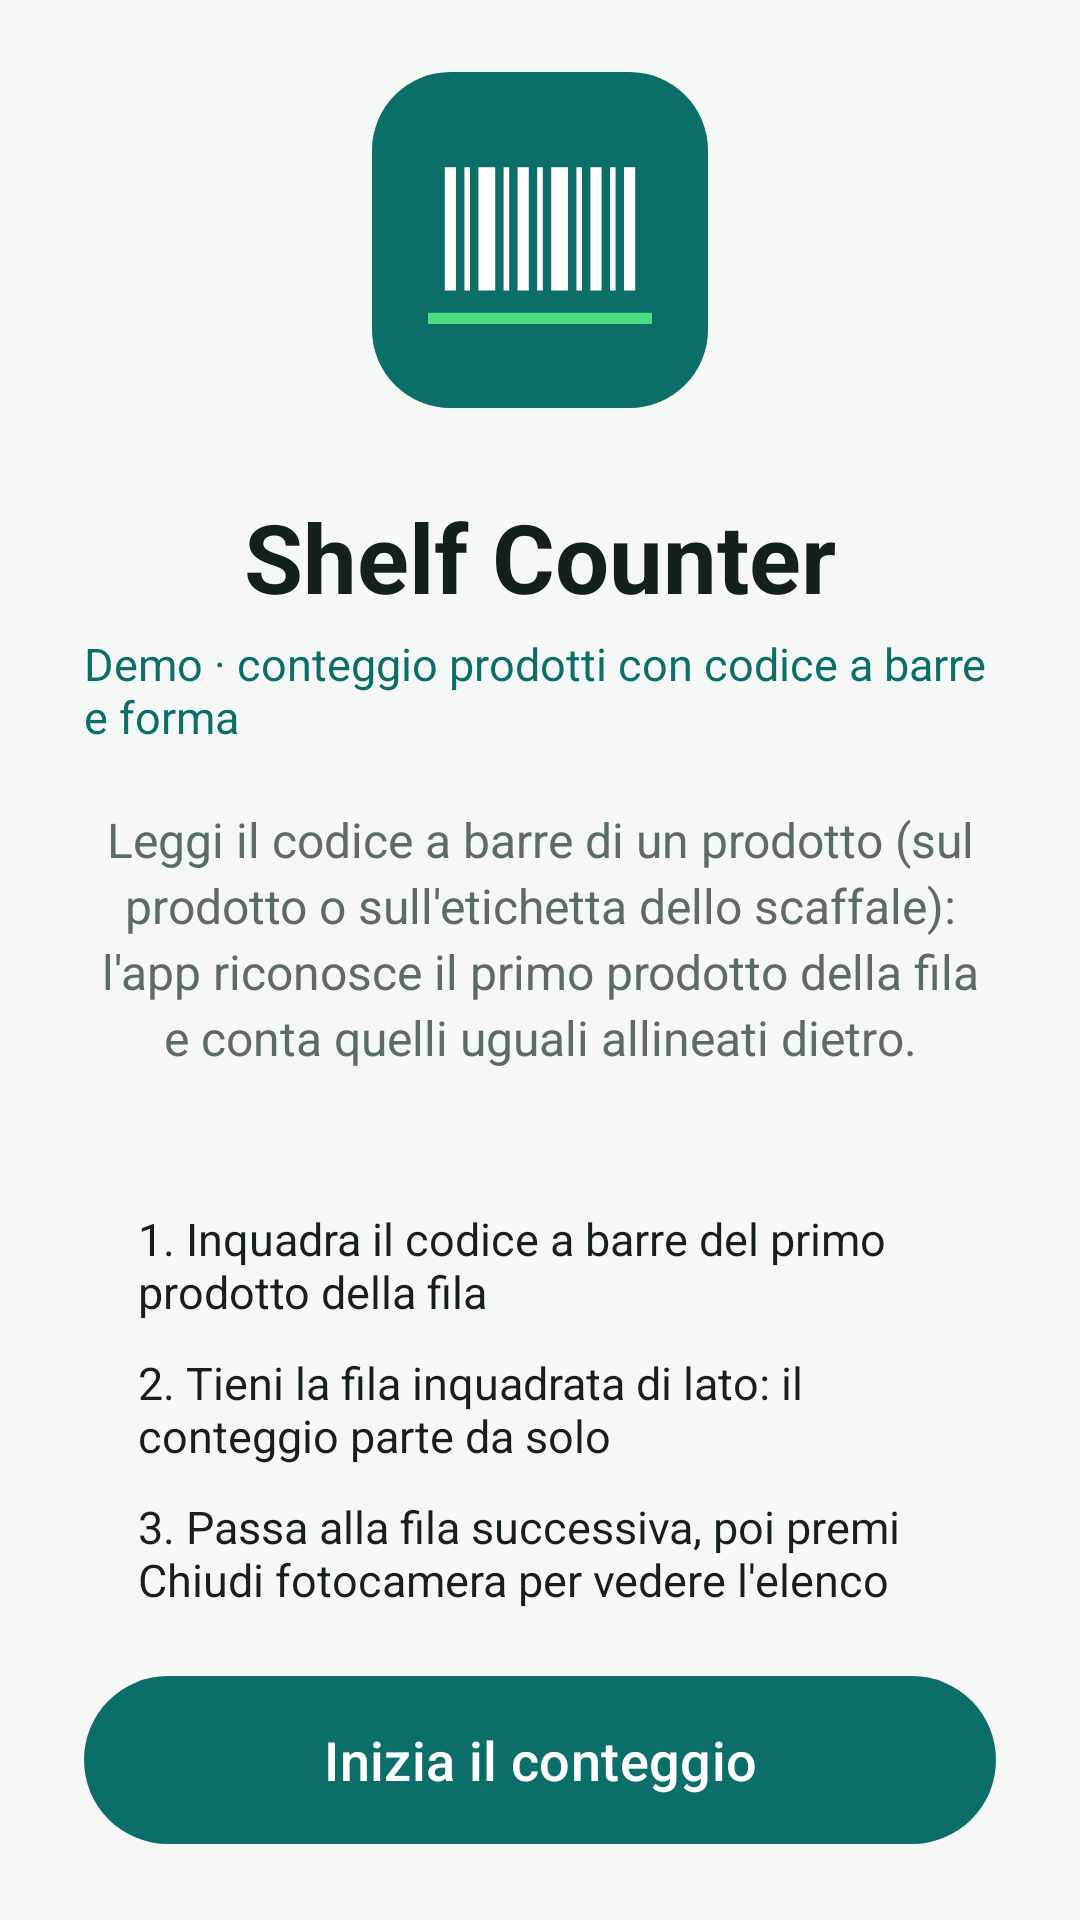

Icon bounding boxes for this 1080w x 1920h phone screenshot, format {"x1": x1, "y1": y1, "x2": x2, "y2": y2}:
barcode hero: {"x1": 372, "y1": 72, "x2": 708, "y2": 408}
